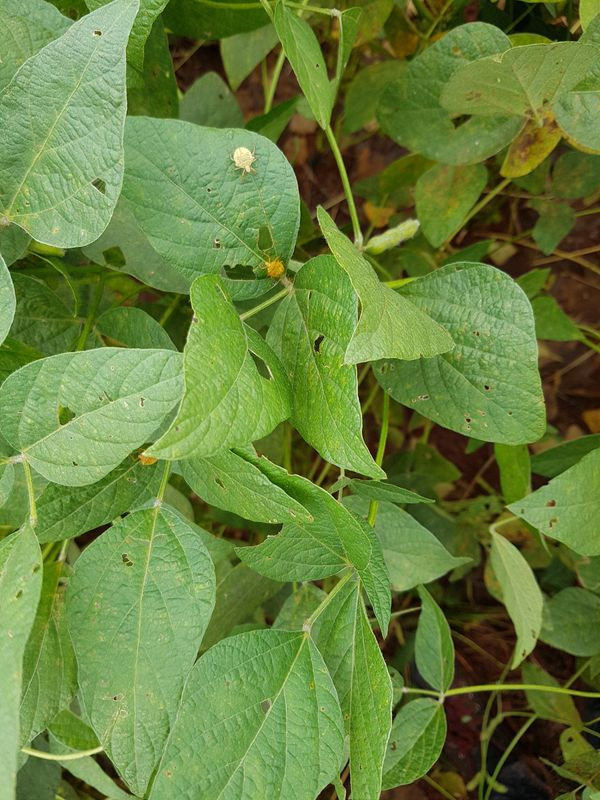Euschistus_heros_ninfa: (255, 248, 294, 286), (225, 141, 264, 178), (129, 444, 162, 468)
